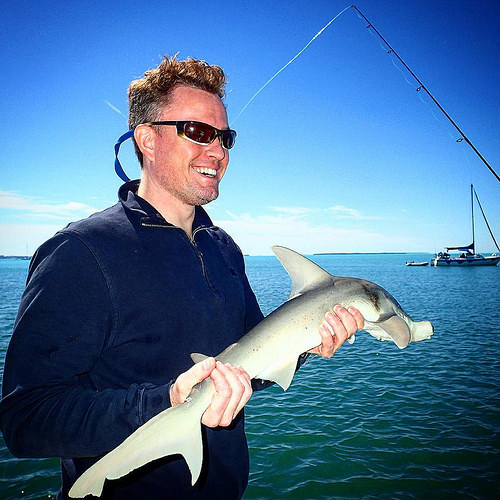shark: (42, 216, 439, 495)
